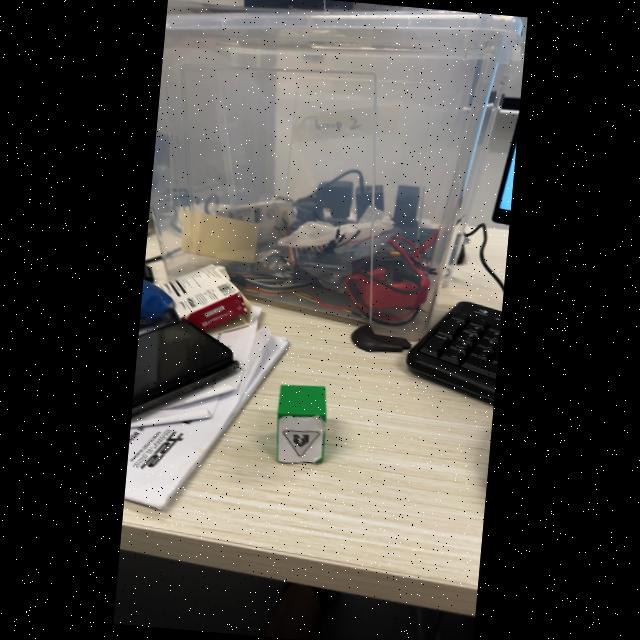Earthquake: (283, 430, 319, 457)
